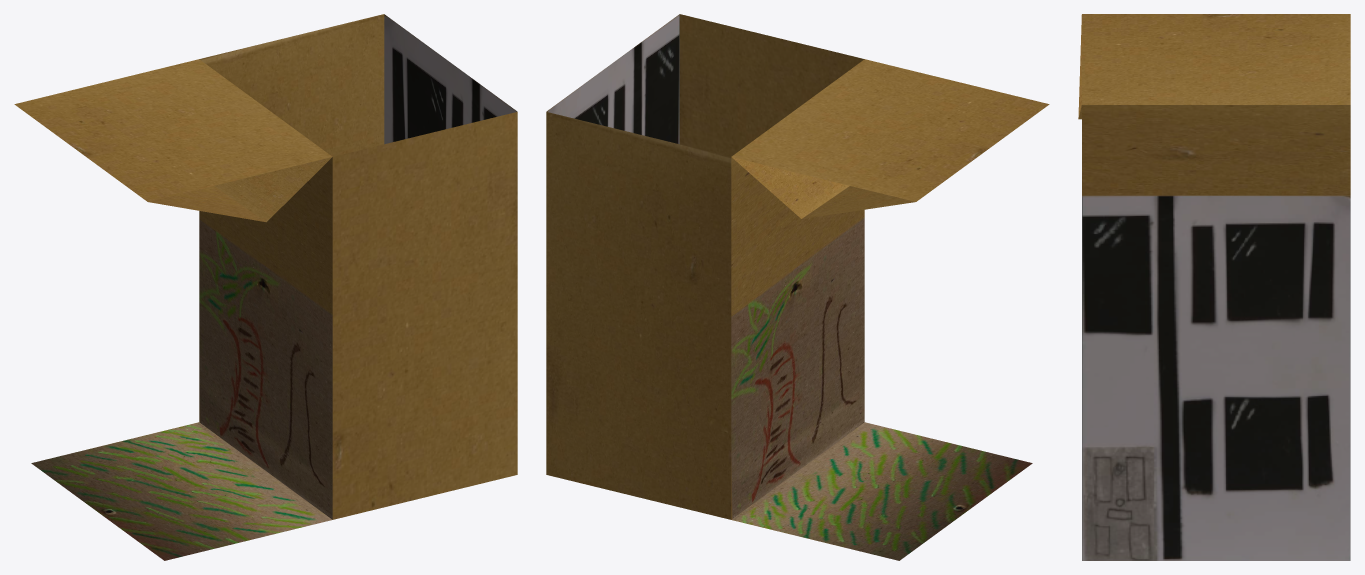
3 views of the same model, side by side, from view 1: azimuth 30°, elevation 25°; view 2: azimuth 150°, elevation 25°; view 3: azimuth 270°, elevation 25° (orthographic).
Parts seen in each view (by area): view 1: Cube, Cube.002, Cube.003; view 2: Cube, Cube.002, Cube.003; view 3: Cube, Cube.002, Cube.003.
Boxes of the visible parts, x1,y1,x2,y2 form: Cube: [31, 112, 517, 560]; Cube.002: [14, 59, 332, 222]; Cube.003: [199, 14, 517, 156]; Cube: [546, 112, 1032, 560]; Cube.002: [731, 59, 1049, 218]; Cube.003: [546, 14, 864, 156]; Cube: [1082, 195, 1350, 560]; Cube.002: [1078, 14, 1350, 118]; Cube.003: [1082, 105, 1350, 195].
Size of the model in its own units: 16 by 15 by 10.13.
1 material, 1 textured.
